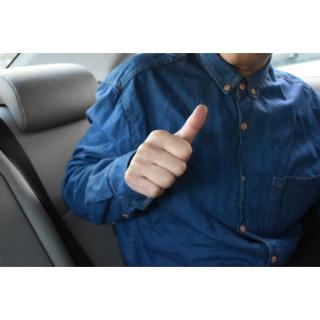ALIF: (122, 101, 210, 198)
